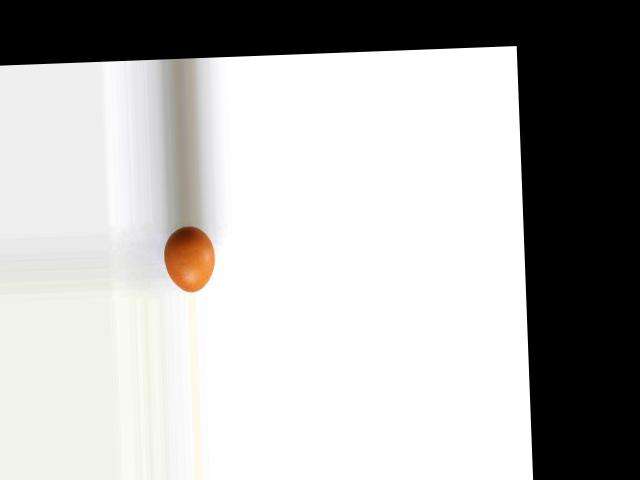egg: (162, 225, 214, 292)
